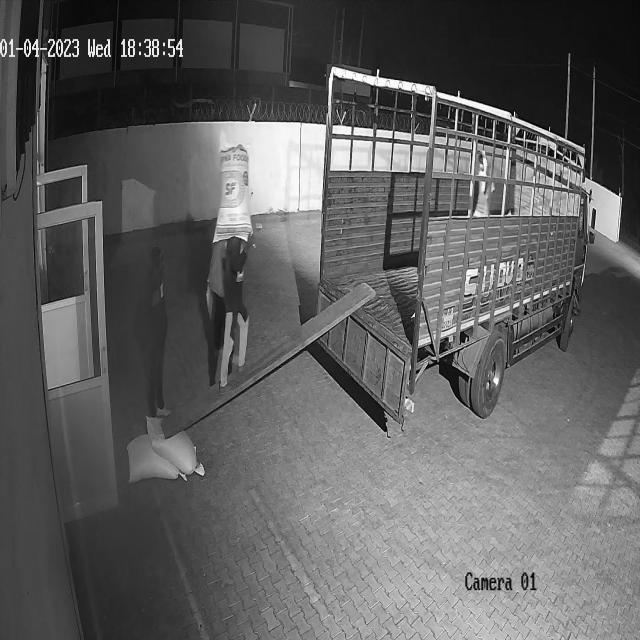sack: (213, 143, 253, 243), (145, 415, 204, 475), (127, 433, 187, 483)
